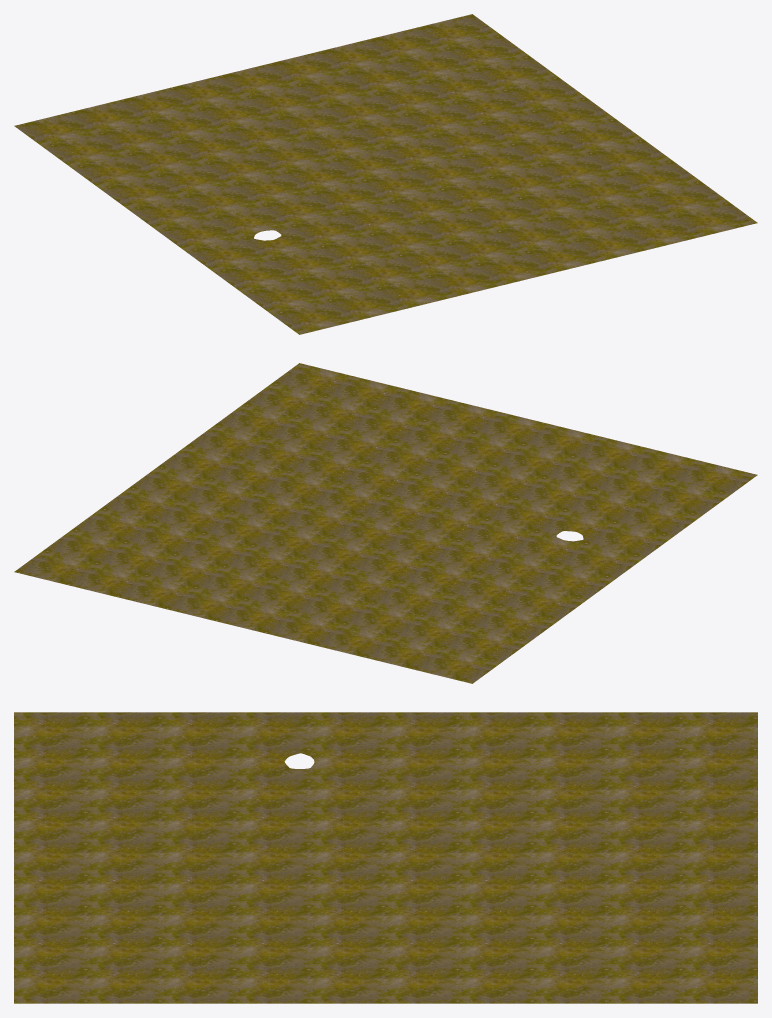
File: FinalWorldTerrain.glb
The picture shows the model from 3 angles, top to bottom: view 1: azimuth 30°, elevation 25°; view 2: azimuth 150°, elevation 25°; view 3: azimuth 270°, elevation 25°; orthographic projection. The views are drawn at different scales.
Visible parts, largest first — view 1: Plane; view 2: Plane; view 3: Plane.
Part boxes in pixels (box(x1,y1,x2,y2)): Plane: box(14, 14, 757, 334); Plane: box(14, 363, 757, 683); Plane: box(14, 712, 757, 1003).
Size of the model in its own units: 181 by 0 by 195.
Materials: 1 (1 with a texture image).
